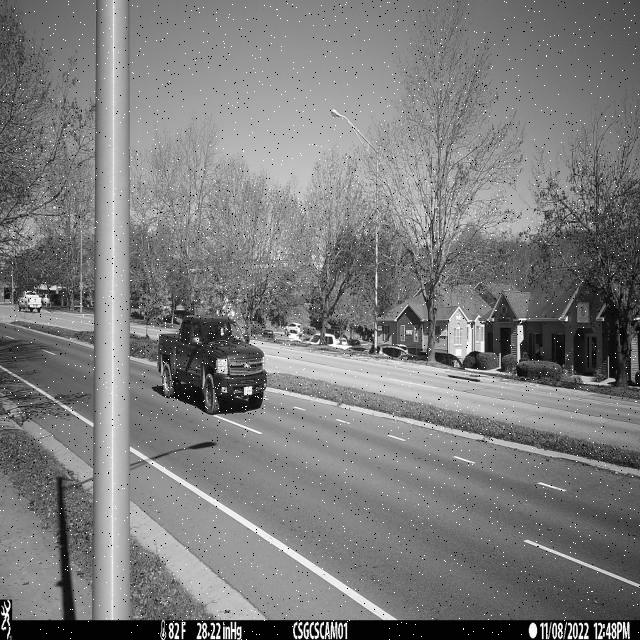Pickup: (157, 315, 267, 415)
